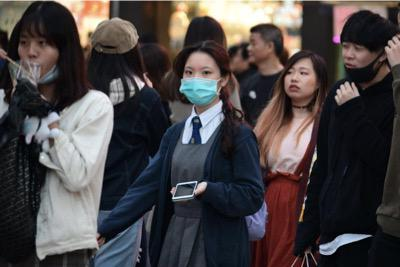mask_weared_incorrect: (15, 32, 59, 85), (341, 42, 374, 85)
with_mask: (178, 64, 220, 107)
without_mask: (282, 65, 315, 103), (246, 36, 265, 64)
